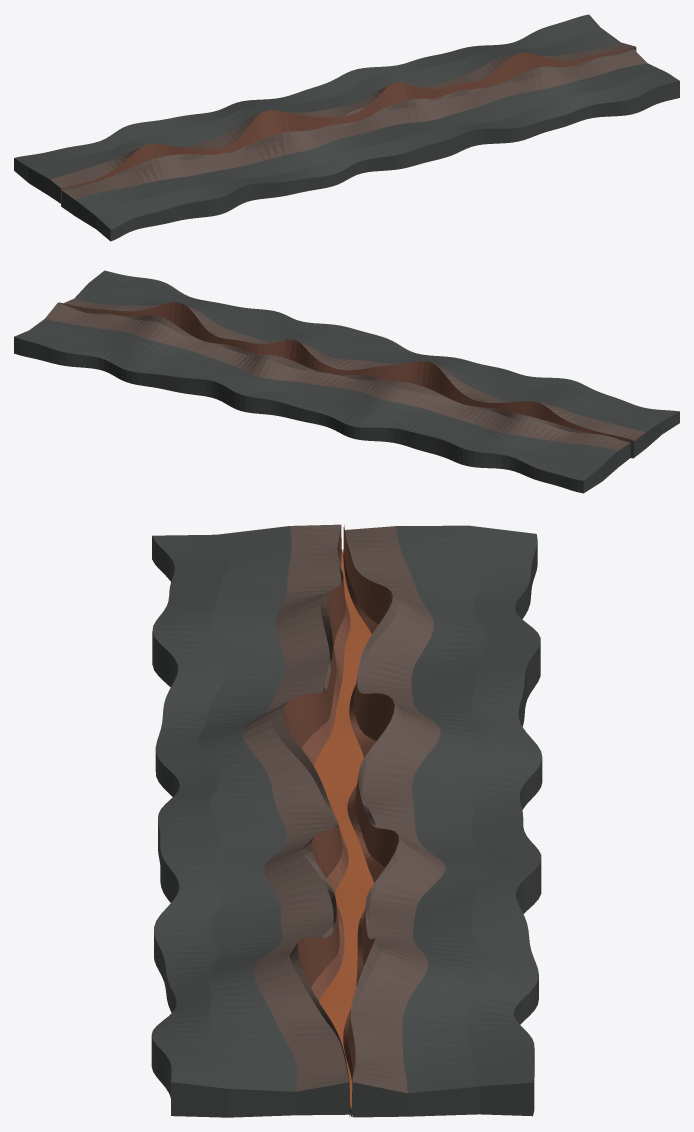
3 renders of one model, top to bottom at view 1: azimuth 30°, elevation 25°; view 2: azimuth 150°, elevation 25°; view 3: azimuth 270°, elevation 25°, orthographic. The views are drawn at different scales.
Visible parts, largest first — view 1: one_open_elongated_crack_with_four_linked_low_spatter_vent_l; view 2: one_open_elongated_crack_with_four_linked_low_spatter_vent_l; view 3: one_open_elongated_crack_with_four_linked_low_spatter_vent_l.
Boxes of the visible parts, x1,y1,x2,y2 form: one_open_elongated_crack_with_four_linked_low_spatter_vent_l: [14, 14, 679, 241]; one_open_elongated_crack_with_four_linked_low_spatter_vent_l: [14, 270, 679, 493]; one_open_elongated_crack_with_four_linked_low_spatter_vent_l: [151, 524, 542, 1117].
Size of the model in its own units: 20.12 by 1.14 by 5.93.
